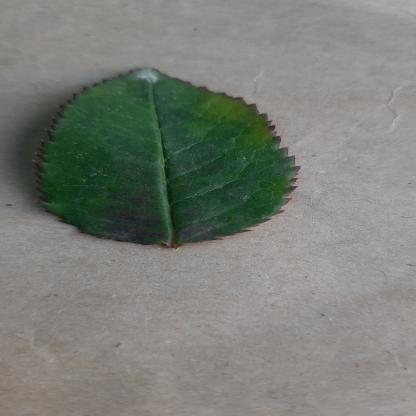downy-mildew: (32, 66, 304, 245)
